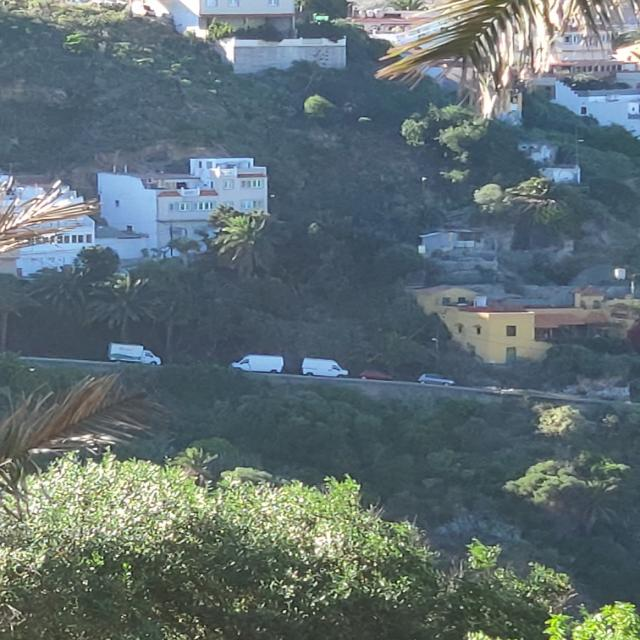Palm-Trees: (214, 215, 282, 282)
